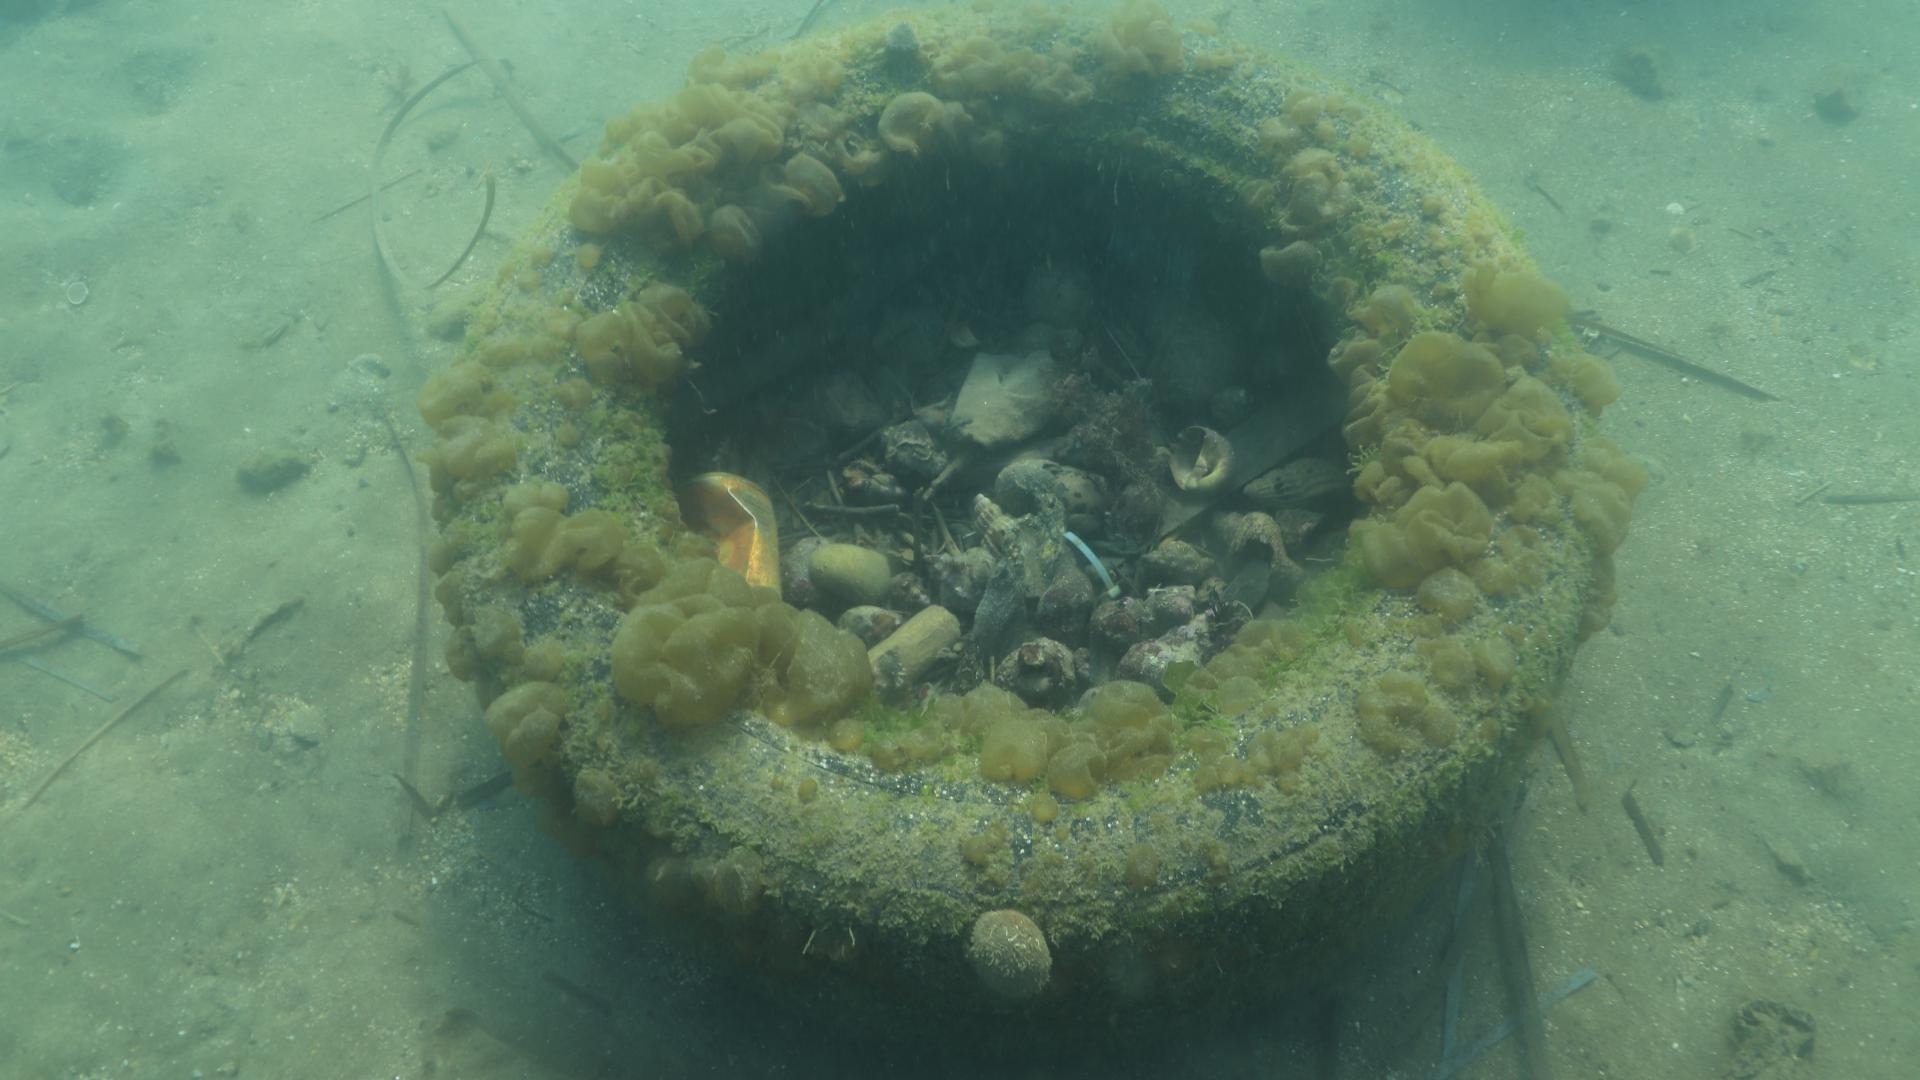tire: (430, 0, 1617, 1048)
